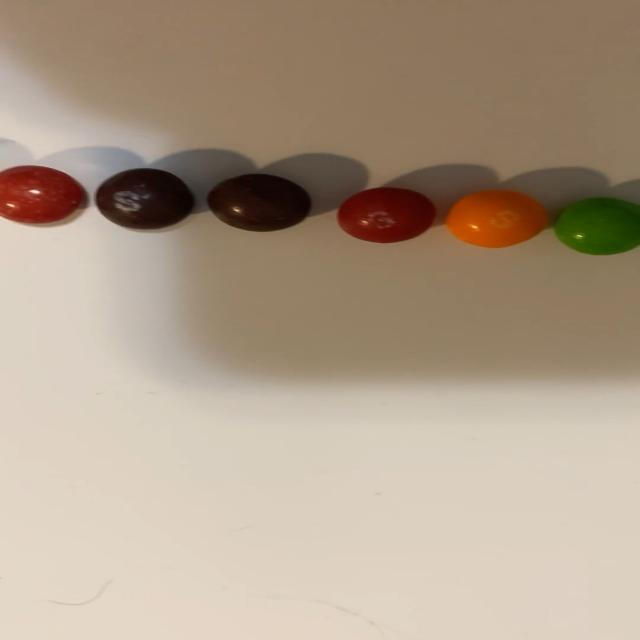smartie: (95, 168, 192, 229), (448, 190, 548, 248), (208, 174, 309, 231), (338, 187, 434, 242), (554, 197, 640, 255), (0, 165, 84, 224)
